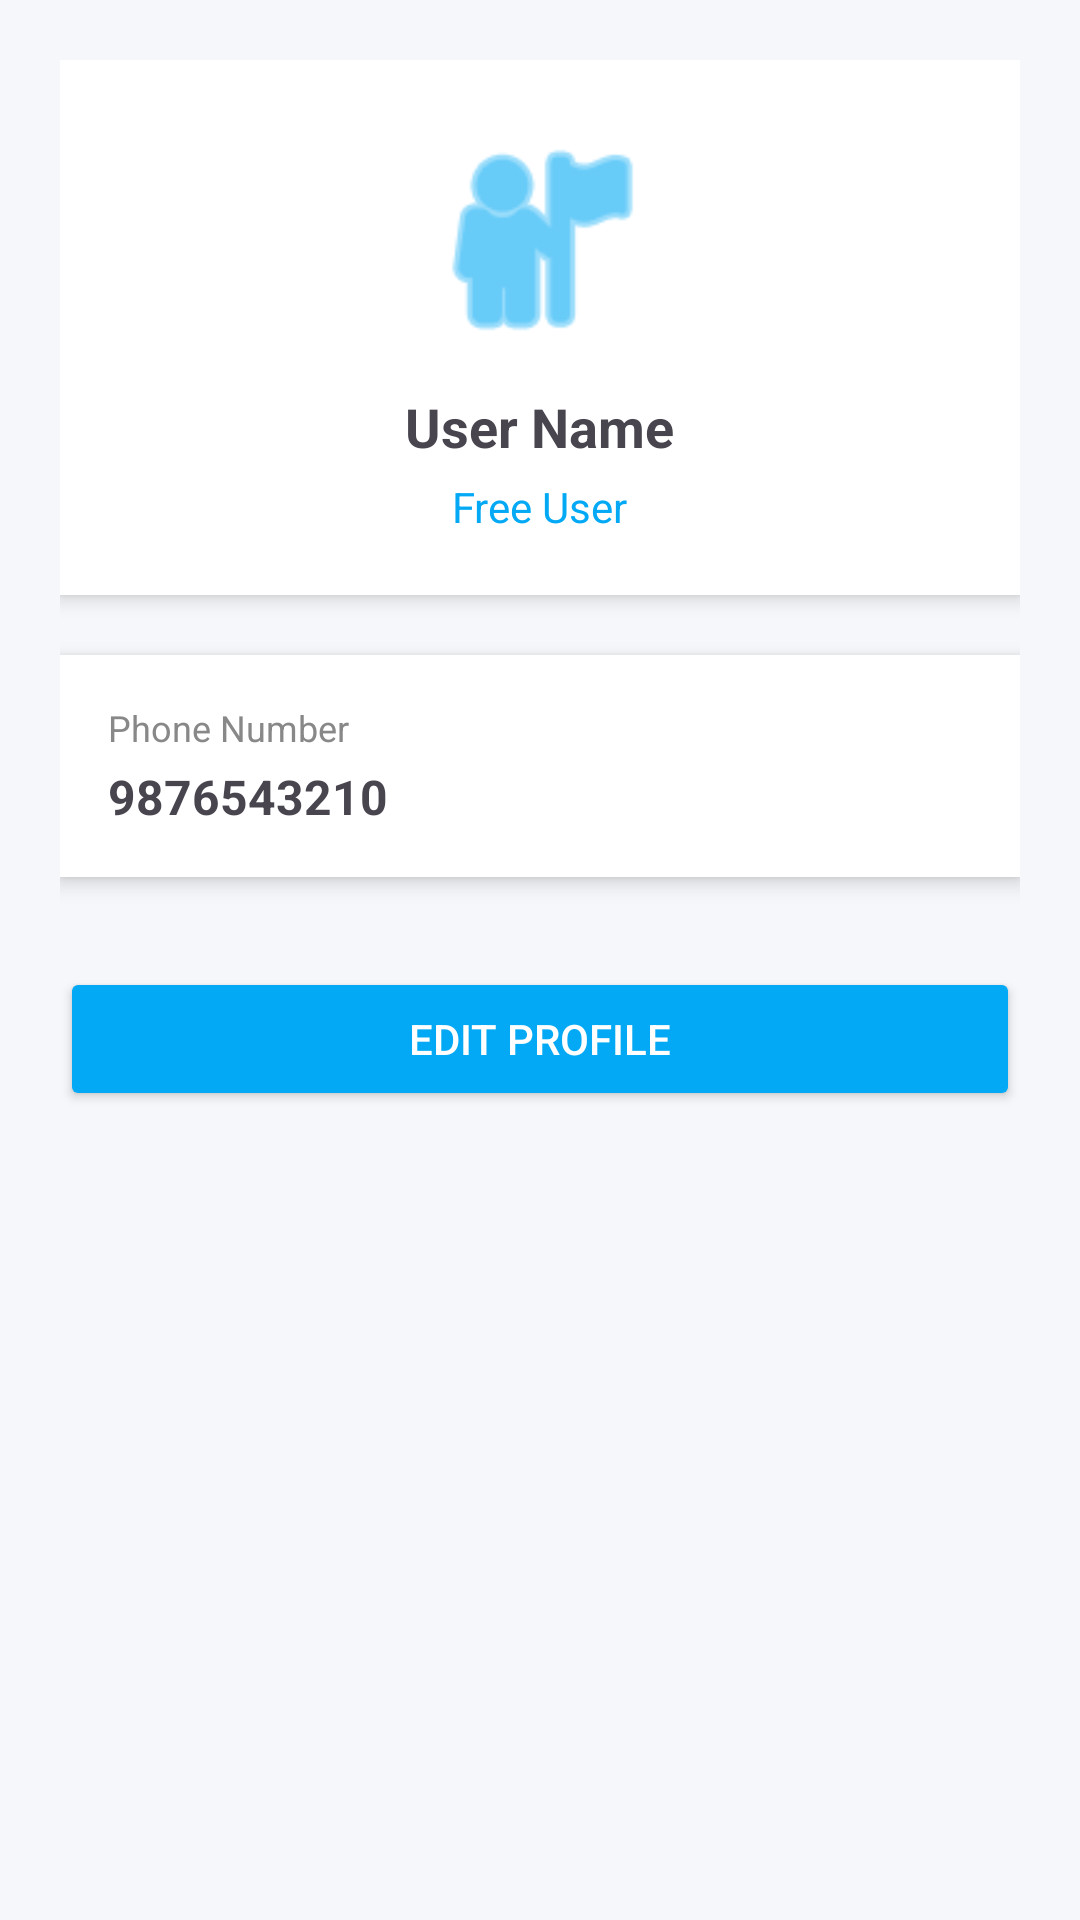

Where to tap for icons on this 1080×1920 app screen, as point (x, y):
myplaces: point (542, 240)
